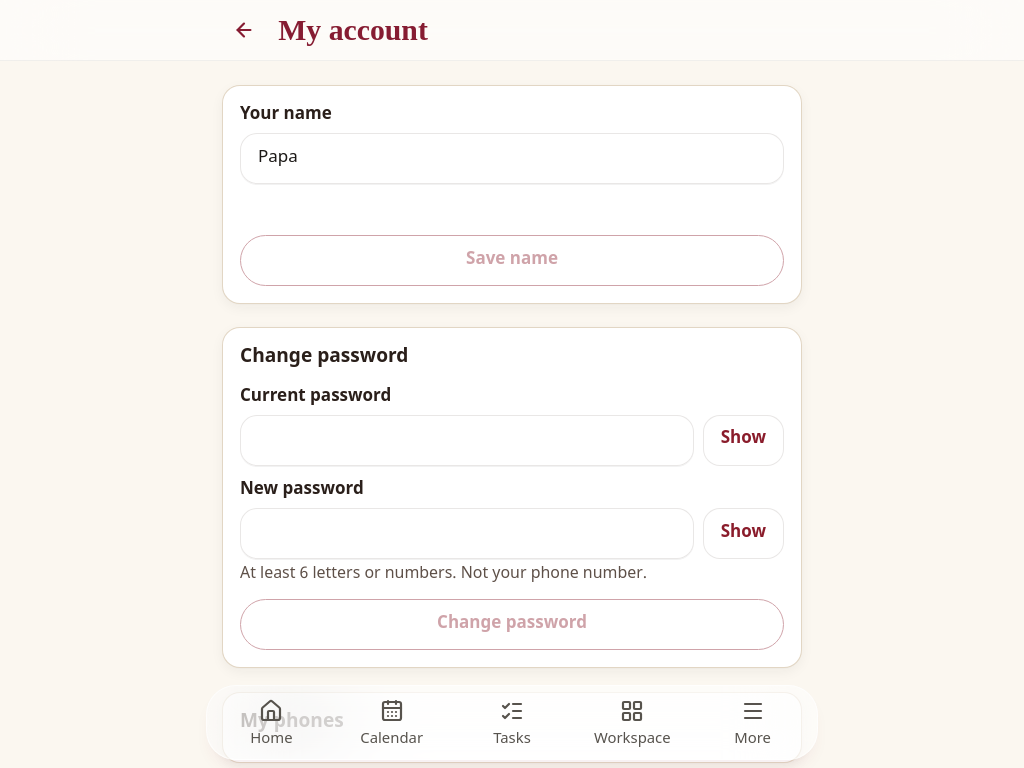
Test: Login ends in the middle of a form › the login sheet opens over the form, typing is kept, and the save is sent once more with the same key
Replace the text in the field showing "Papa" with "Rajendra Porwal" at (512, 158), box [240, 133, 784, 184]
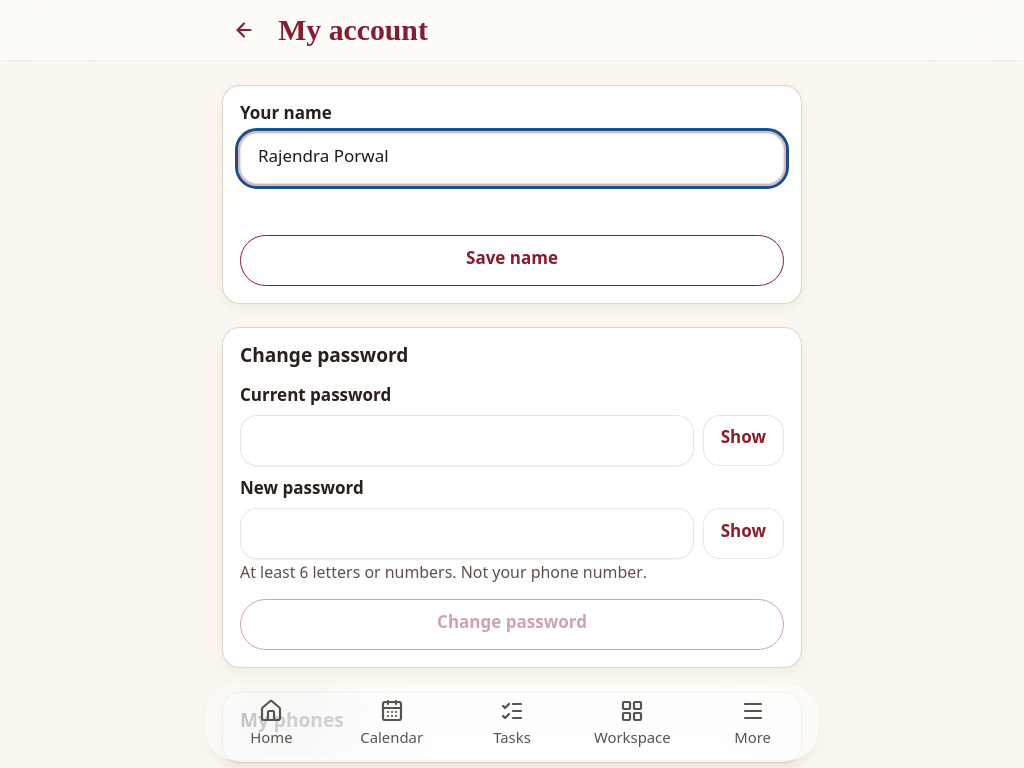
Click the button "Save name" at (512, 260), box [240, 235, 784, 286]
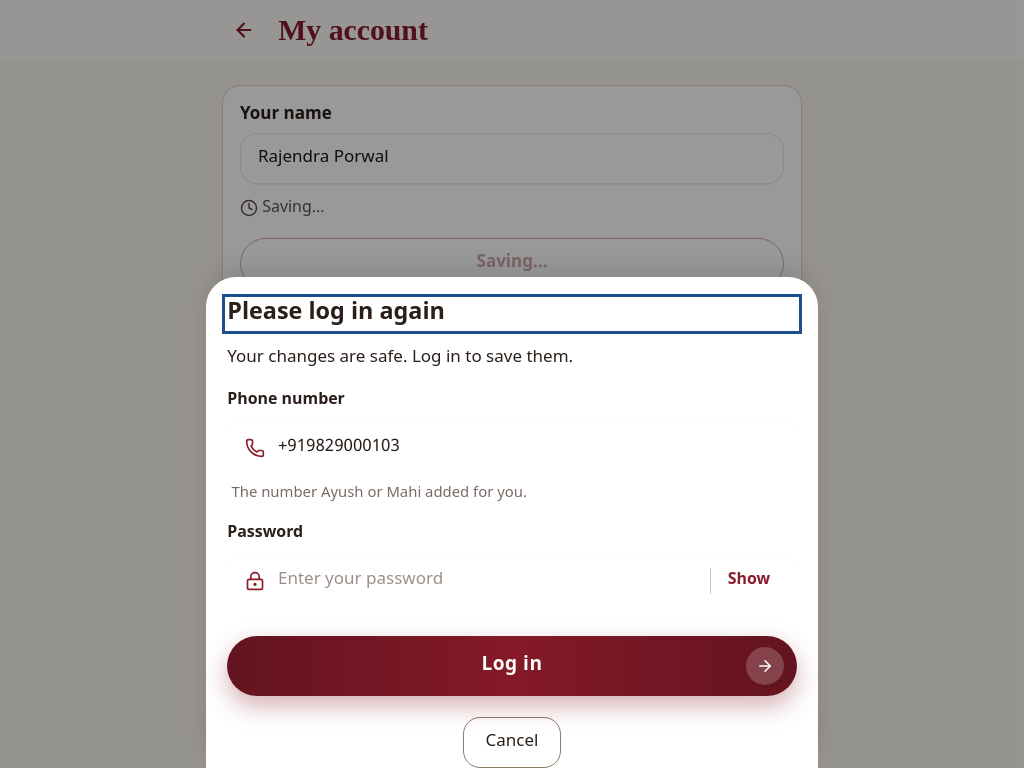
Expected: the text "Your changes are safe. Log in to save them." is shown, [227, 347, 573, 369]
Expected: the field labelled "Phone number" holds "+919829000103", [278, 422, 779, 473]
Type "lotus-9911" into the password field labelled "Password" at (490, 581), box [278, 556, 701, 606]
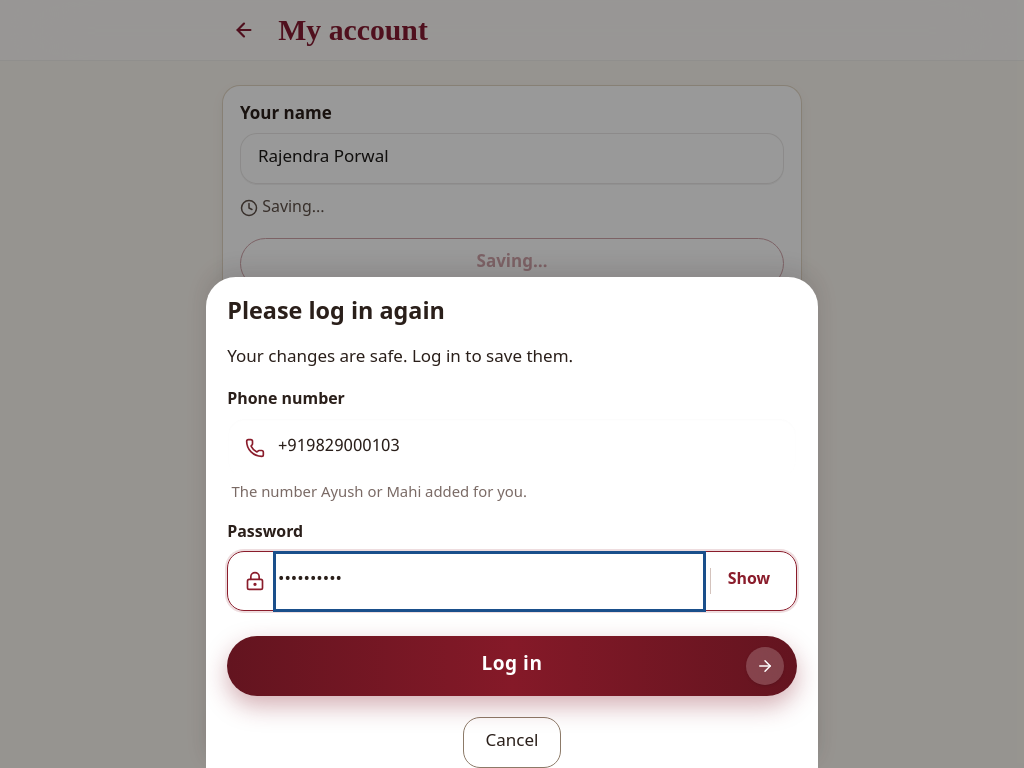
Click the button "Log in" at (512, 666), box [227, 636, 797, 696]
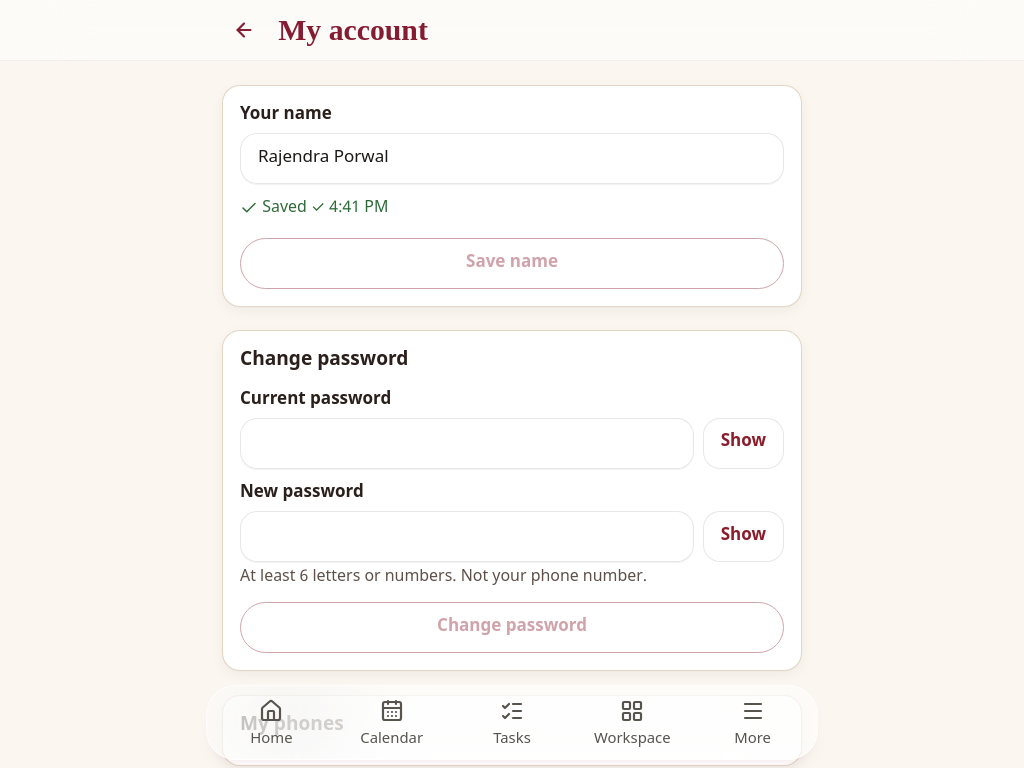
Expected: the text "Saved ✓ 4:41 PM" is shown, [240, 196, 388, 220]
Expected: the dialog is gone
